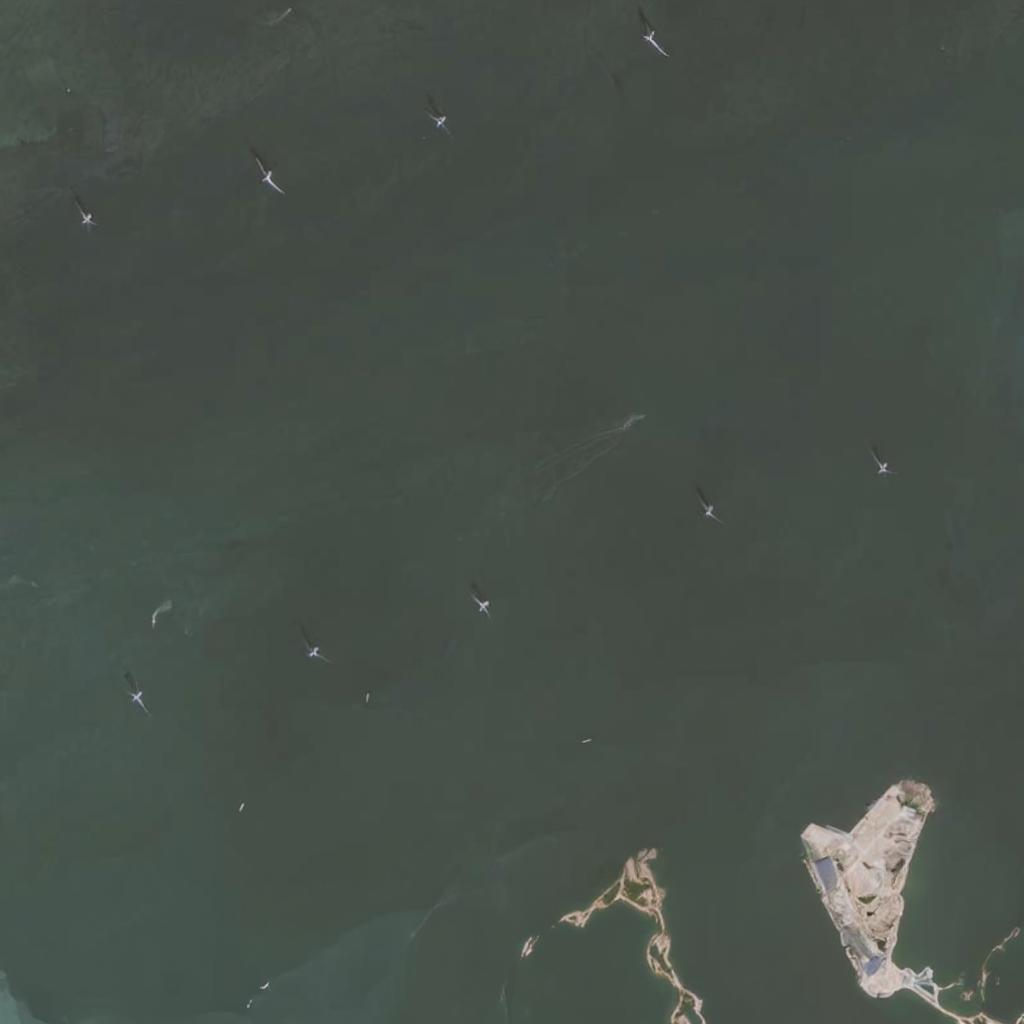bybrid: (694, 485, 729, 532), (115, 679, 155, 720), (251, 153, 285, 198), (73, 188, 102, 234), (640, 21, 671, 62), (864, 438, 895, 478), (298, 637, 330, 667), (467, 590, 494, 619), (426, 110, 453, 138)
land: (783, 762, 1024, 1021), (542, 845, 717, 1024)
